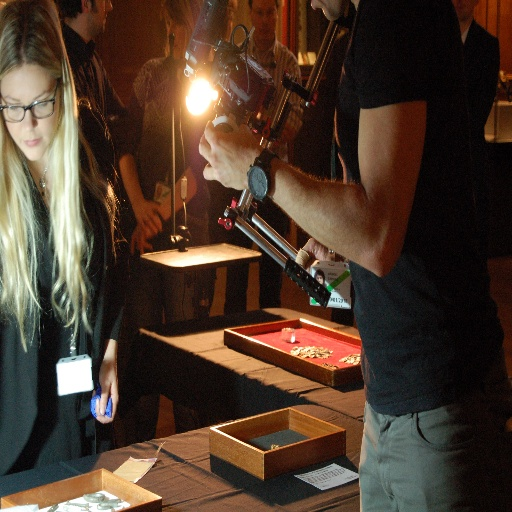hand: (195, 118, 253, 180), (90, 355, 120, 425), (293, 237, 338, 277), (134, 199, 165, 237), (128, 221, 152, 257), (278, 123, 294, 147)
